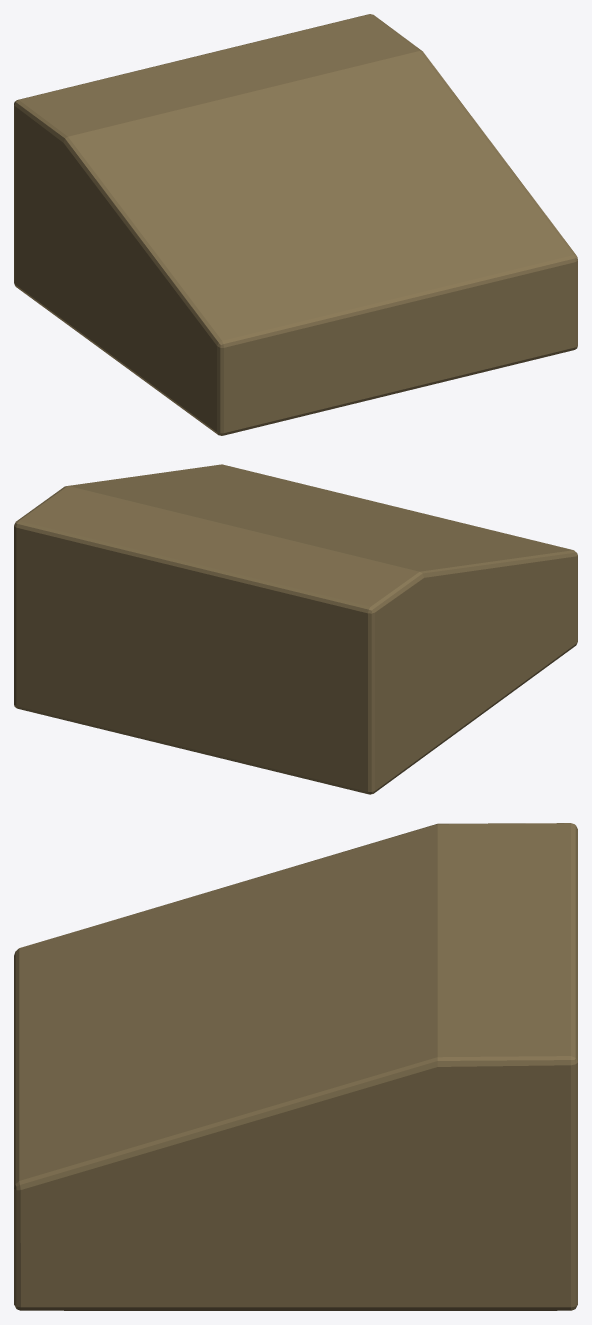
Rendered from SM_Platform_4m_03_B_Ramp.fbx.
The picture shows the model from 3 angles, top to bottom: view 1: azimuth 30°, elevation 25°; view 2: azimuth 150°, elevation 25°; view 3: azimuth 270°, elevation 25°; orthographic projection. The views are drawn at different scales.
Parts seen in each view (by area): view 1: polySurface102; view 2: polySurface102; view 3: polySurface102.
Part boxes in pixels (<box>): polySurface102: <box>14,14,577,435</box>; polySurface102: <box>14,464,577,794</box>; polySurface102: <box>14,823,577,1310</box>.
Bounding box in the file's own units: 402 × 200 × 401.
